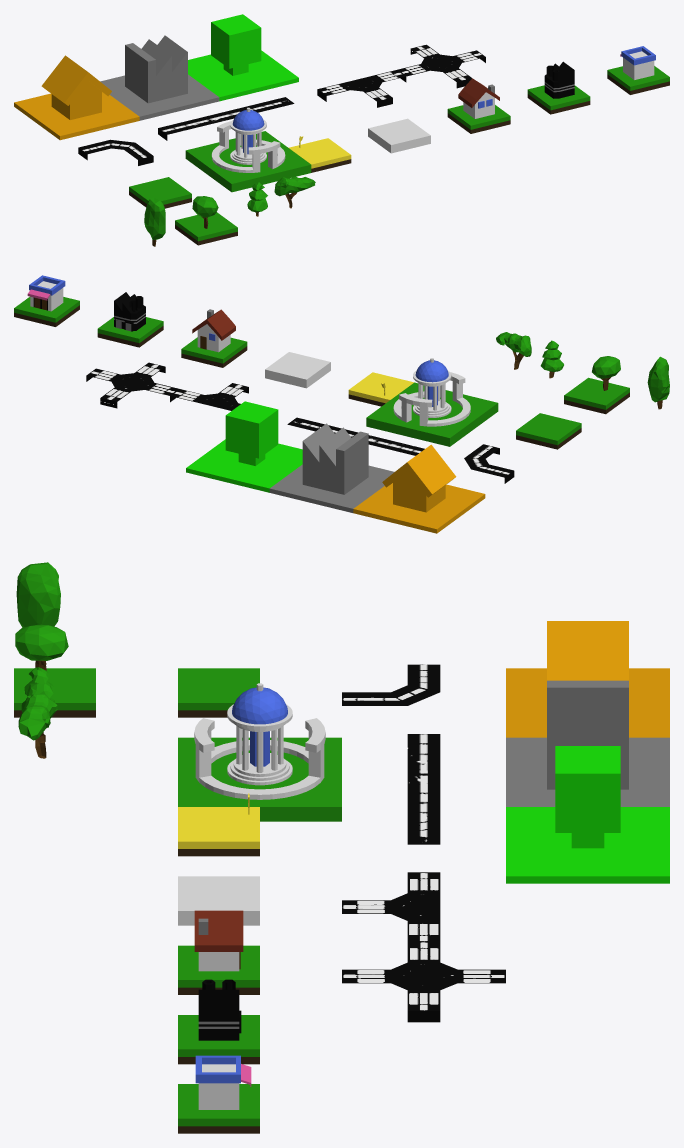
Rendered from tiles.dae.
The picture shows the model from 3 angles, top to bottom: view 1: azimuth 30°, elevation 25°; view 2: azimuth 150°, elevation 25°; view 3: azimuth 270°, elevation 25°; orthographic projection. The views are drawn at different scales.
Parts seen in each view (by area): view 1: Cube.001, Cube.002, Cube, Cube.004, house_tile, factory_tile, shop_tile, road_cross_4, Cylinder.001, water, Cube.005, road_cross_3 (+12 smaller); view 2: Cube.001, Cube.002, Cube, Cube.004, house_tile, factory_tile, shop_tile, road_cross_4, Cylinder.001, water, Cube.003, Cube.005 (+11 smaller); view 3: Cube.002, Cube.001, Cube, Cube.004, shop_tile, house_tile, factory_tile, road_cross_4, Cylinder.001, field, road_cross_3, water (+11 smaller).
Part boxes in pixels (x1,y1,x2,y2): Cube.001: (100,35,219,120); Cube.002: (188,14,298,101); Cube: (14,55,139,140); Cube.004: (185,131,311,192); house_tile: (447,78,510,133); factory_tile: (527,61,590,114); shop_tile: (607,46,669,94); road_cross_4: (397,44,485,88); Cylinder.001: (211,121,285,172); water: (368,118,430,153); Cube.005: (175,212,237,245); road_cross_3: (317,70,406,107); Cube.001: (269,423,394,512); Cube.002: (186,401,302,492); Cube: (353,444,485,533); Cube.004: (366,382,498,446); house_tile: (181,309,247,367); factory_tile: (97,292,163,347); shop_tile: (14,275,79,326); road_cross_4: (86,362,178,408); Cylinder.001: (393,372,470,426); water: (265,352,330,388); Cube.003: (516,413,581,449); Cube.005: (564,377,629,414); Cube.002: (506,746,669,883); Cube.001: (506,680,669,806); Cube: (506,621,669,737); Cube.004: (178,737,341,821); shop_tile: (178,1055,259,1133); house_tile: (178,910,259,994); factory_tile: (178,979,259,1064); road_cross_4: (342,941,505,1022); Cylinder.001: (194,718,325,799); field: (178,807,259,856); road_cross_3: (342,872,440,941); water: (178,876,259,925).
Size of the model in its own units: 0.1412 by 0.08 by 0.0138.
Materials: 16 (3 with a texture image).
